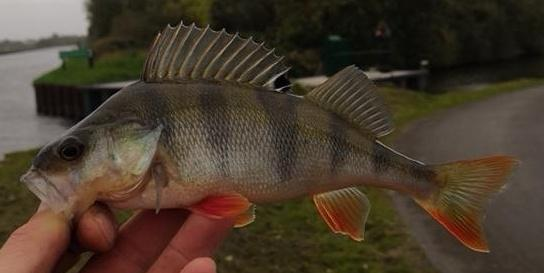Perch: (16, 19, 532, 254)
